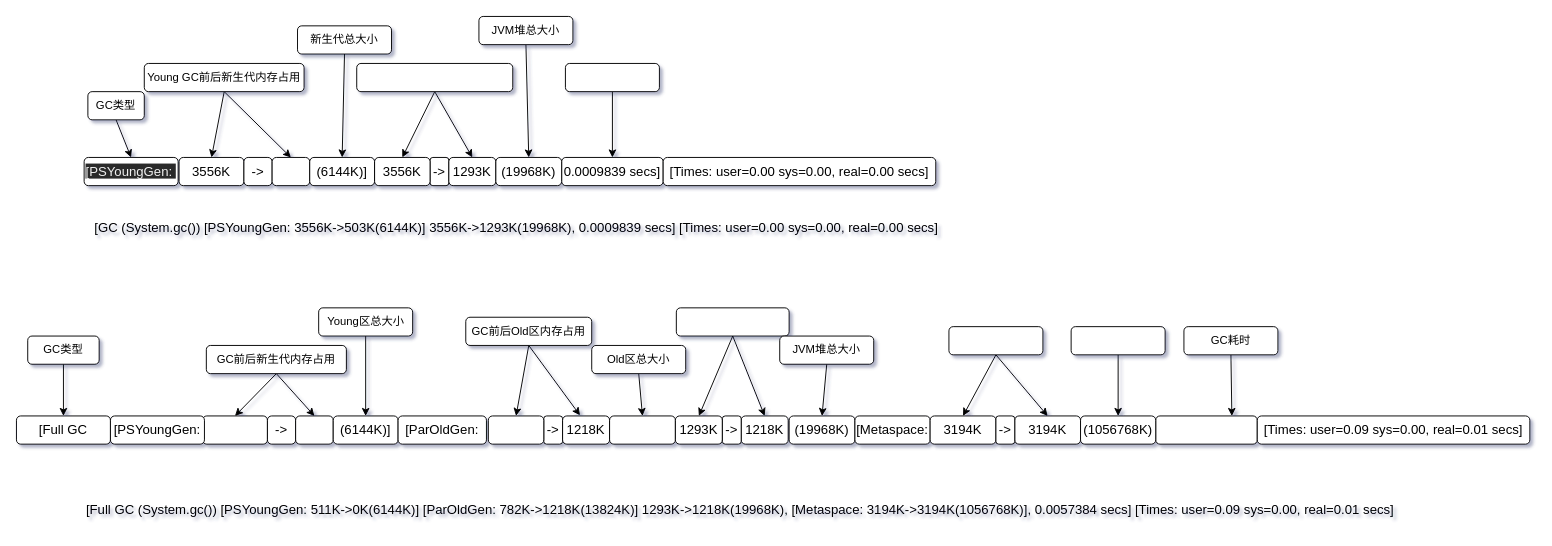
The diagram is 1552 pixels wide and 546 high, and some of its shapes have lost their labels. Here are the shapes that lost their labels. From the top down, the centre of each, then its label:
At point (434, 77): "YoungGC前后堆内存占用".
At point (611, 77): "YoungGC耗时".
At point (290, 171): "503K".
At point (732, 321): "GC前后堆内存占用".
At point (995, 340): "GC前后方法区内存占用".
At point (1117, 340): "方法区内存占用".
At point (234, 429): "511K".
At point (314, 429): "0K".
At point (515, 429): "782K".
At point (642, 429): "(13824K)]".
At point (1206, 429): "0.0057384 secs]".
